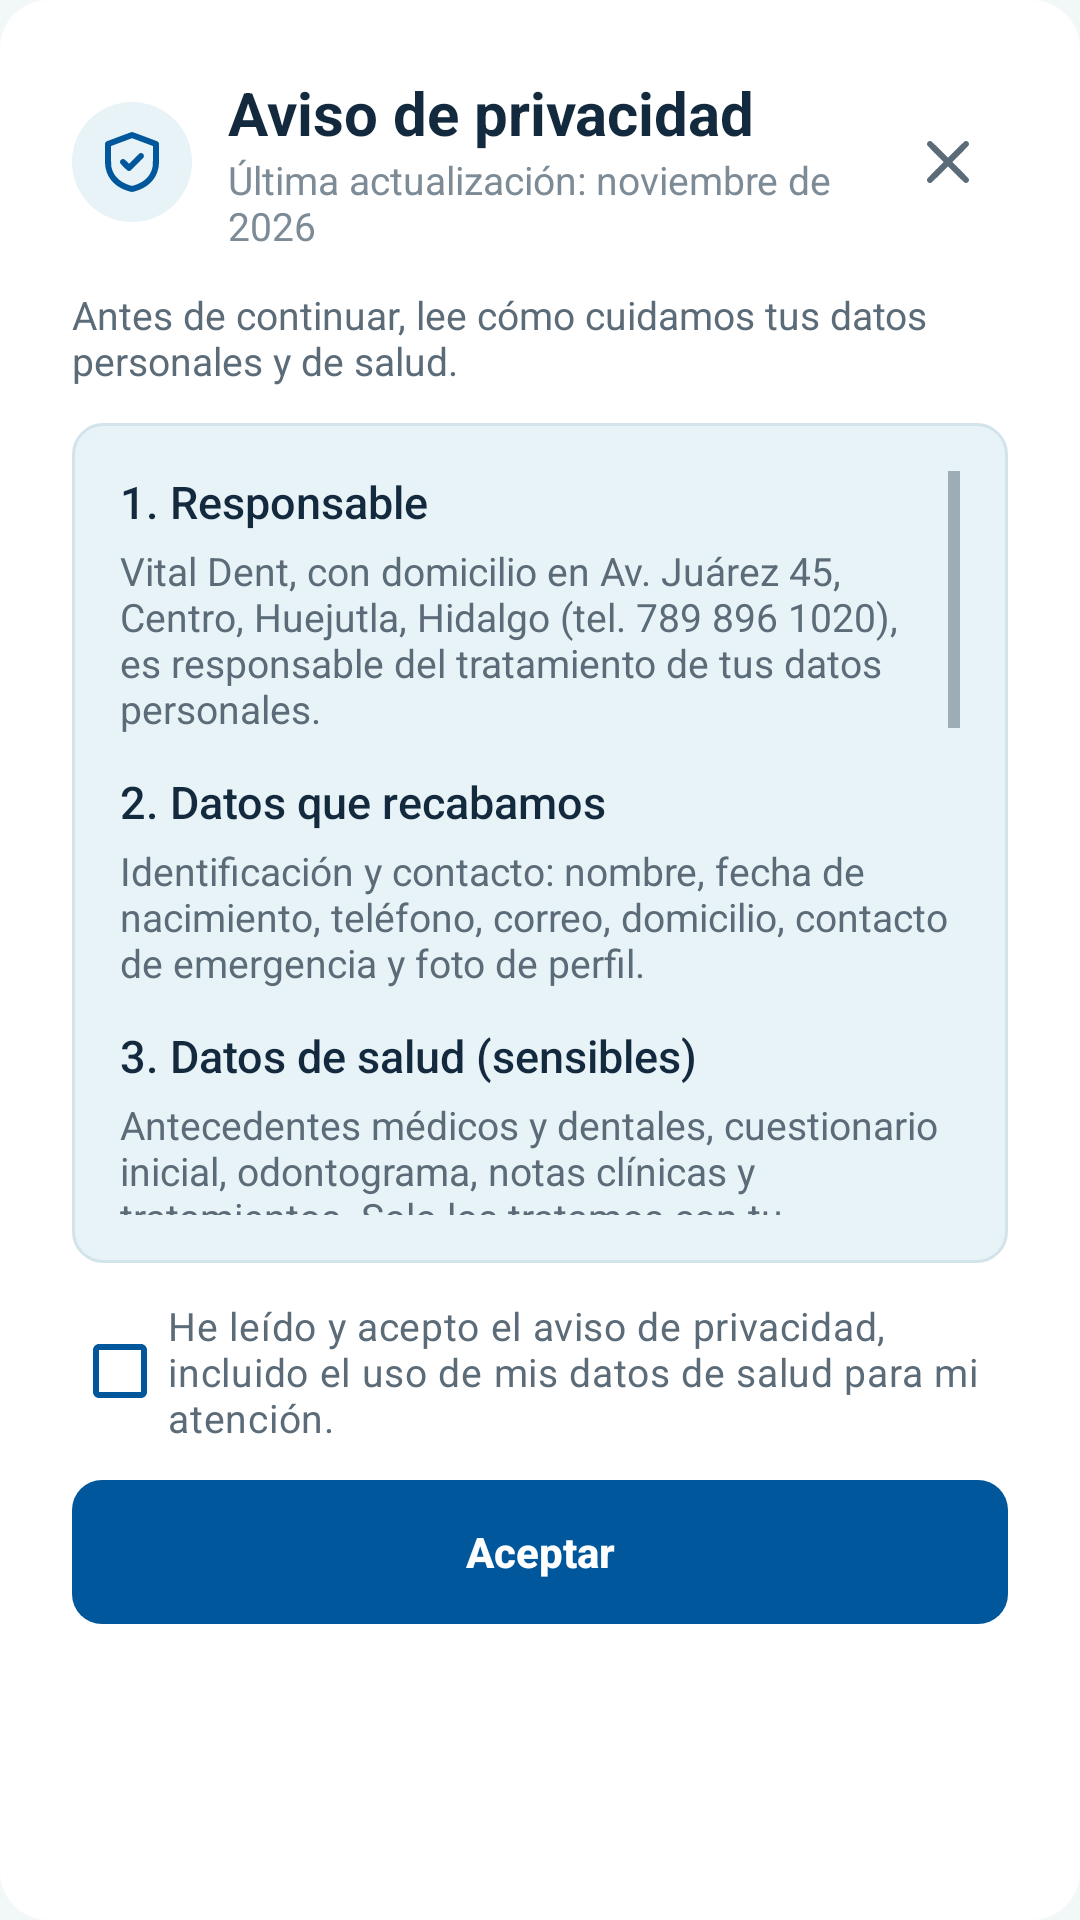

Screen size 1080 × 1920. Icon name, then its center in pixels as [x,y]:
escudo: [132,162]
